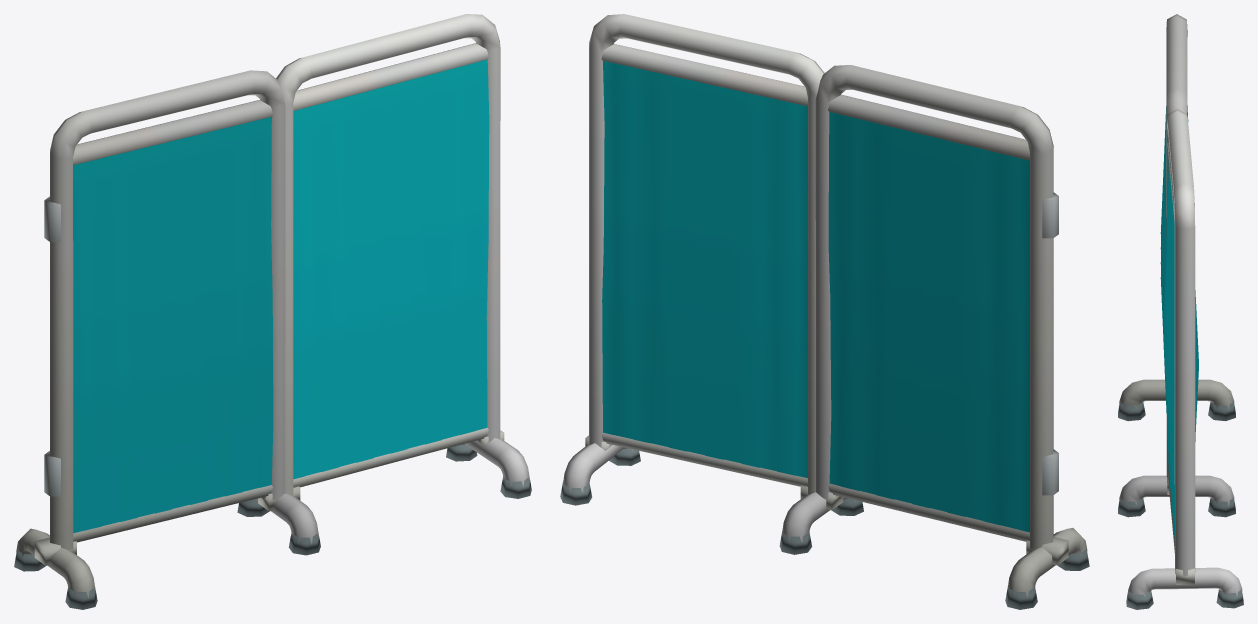
File: Pfb_JLAB_Screen__3.fbx
3 renders of one model, left to right at view 1: azimuth 30°, elevation 25°; view 2: azimuth 150°, elevation 25°; view 3: azimuth 270°, elevation 25°, orthographic. The views are drawn at different scales.
Parts seen in each view (by area): view 1: Color 1, Color; view 2: Color 1, Color; view 3: Color, Color 1.
Boxes of the visible parts, left/top/right/bottom form: Color 1: left=14, top=70, right=320, bottom=609; Color: left=276, top=14, right=531, bottom=498; Color 1: left=779, top=65, right=1089, bottom=609; Color: left=560, top=14, right=824, bottom=505; Color: left=1126, top=109, right=1243, bottom=609; Color 1: left=1118, top=14, right=1235, bottom=517.
Bounding box in the file's own units: 1.84 × 1.75 × 0.4852.
Materials: 2 (2 with a texture image).
